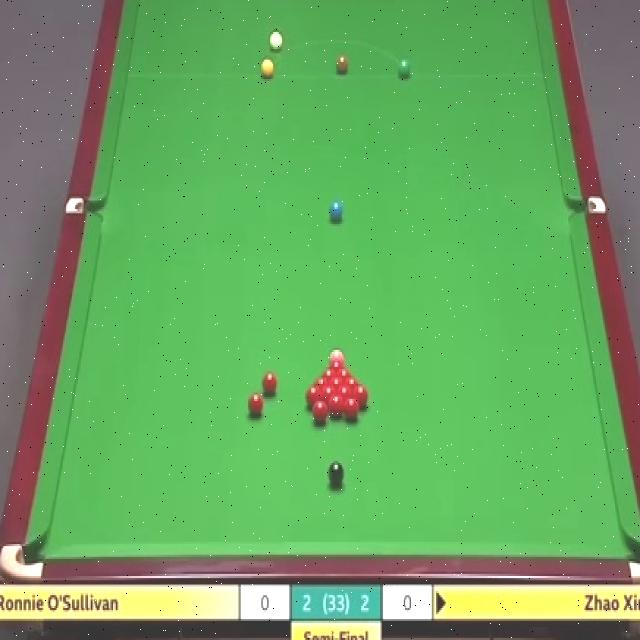black-ball: (328, 458, 344, 488)
blue-ball: (331, 201, 344, 224)
brown-ball: (336, 56, 348, 75)
green-ball: (398, 58, 411, 79)
pink-ball: (328, 346, 345, 363)
red-ball: (260, 369, 280, 396), (327, 393, 344, 419), (312, 400, 328, 426), (248, 392, 264, 415), (345, 395, 361, 418), (352, 385, 369, 406), (306, 384, 322, 406), (320, 385, 337, 401), (338, 386, 352, 404), (335, 369, 354, 380), (344, 377, 361, 388), (328, 378, 345, 388), (327, 359, 345, 368), (319, 369, 335, 379), (314, 378, 328, 389)
white-ball: (268, 29, 285, 54)
yellow-ball: (260, 57, 275, 79)
